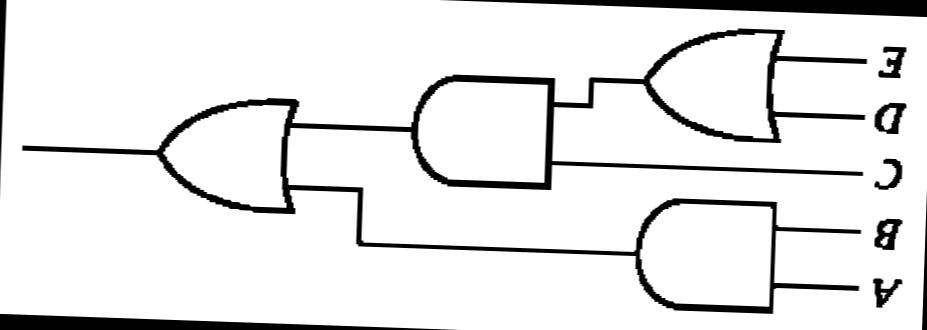and: (376, 47, 575, 205), (605, 183, 807, 327)
or: (104, 62, 328, 236), (620, 14, 804, 154)
